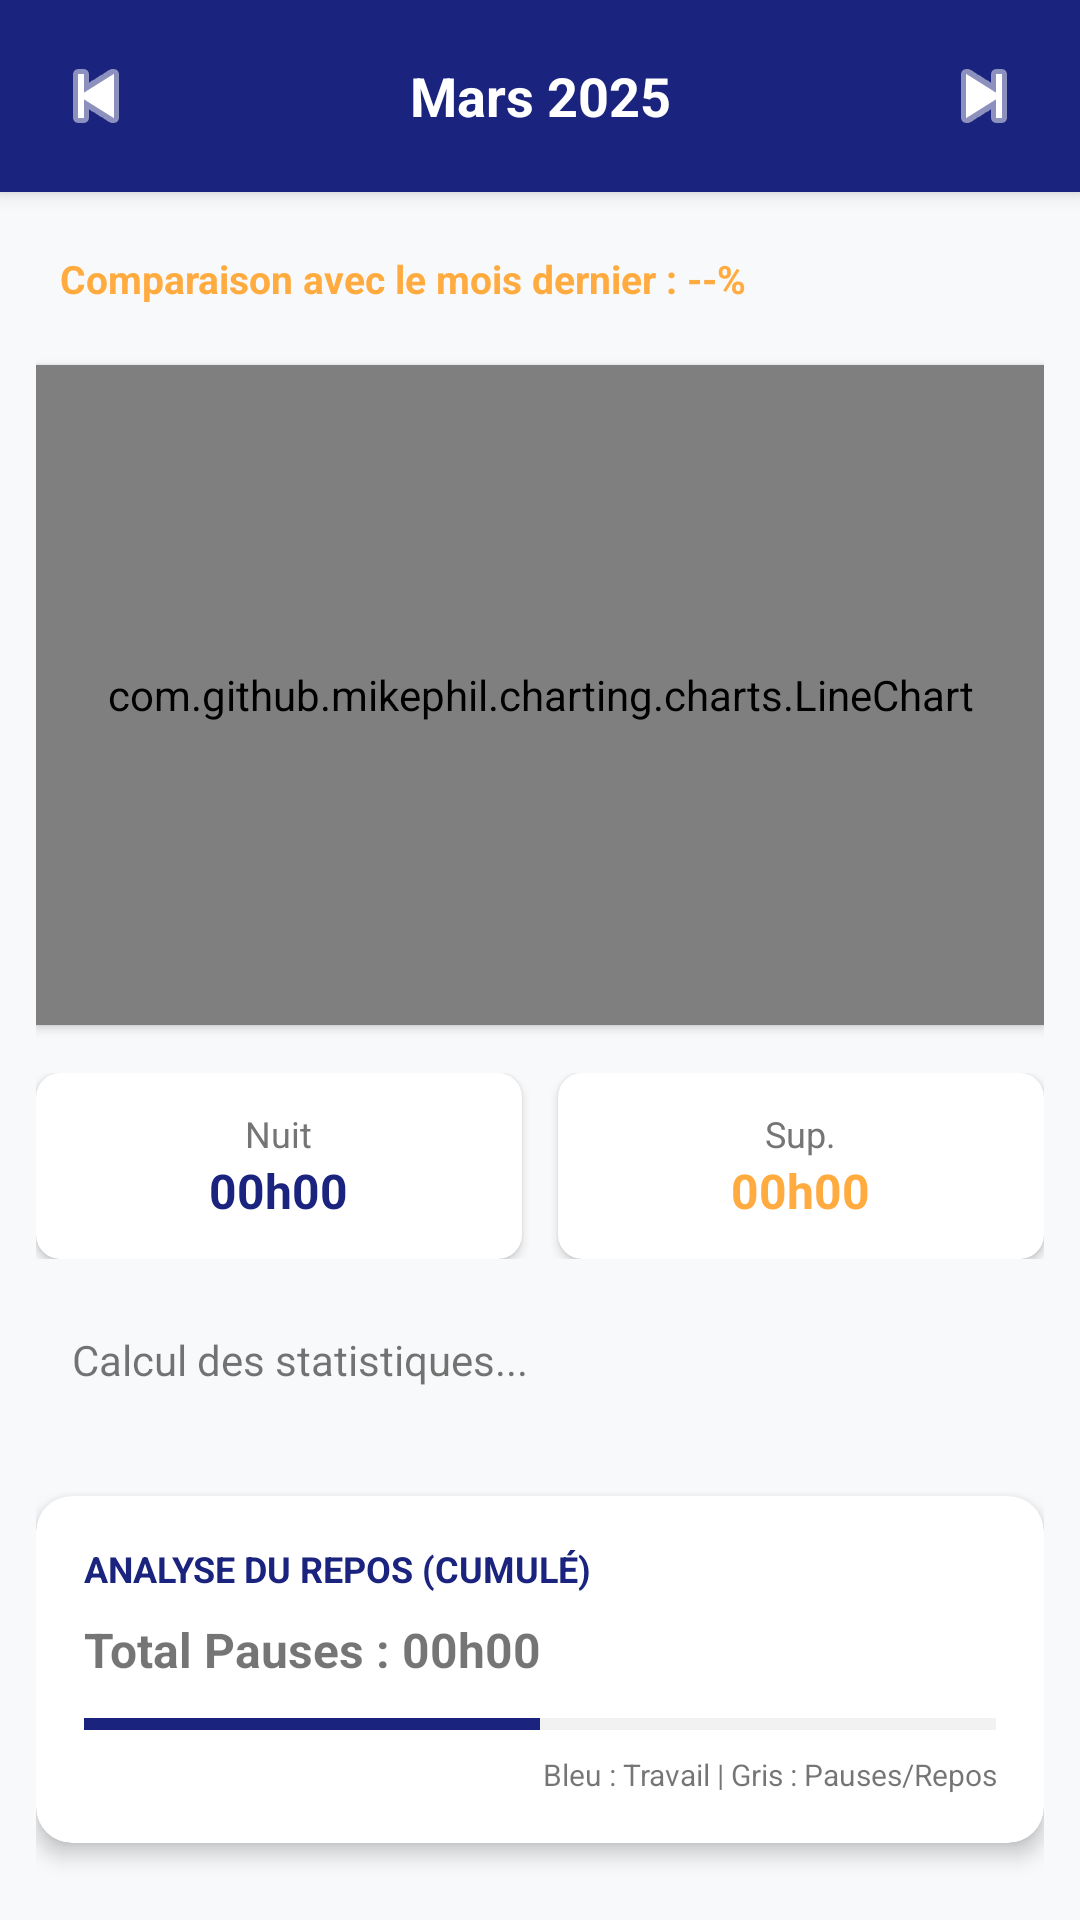

Screen size 1080*1920. Icon name, then its center in pixels as point (x, y):
Mois précédent: point (96, 96)
Mois suivant: point (984, 96)
